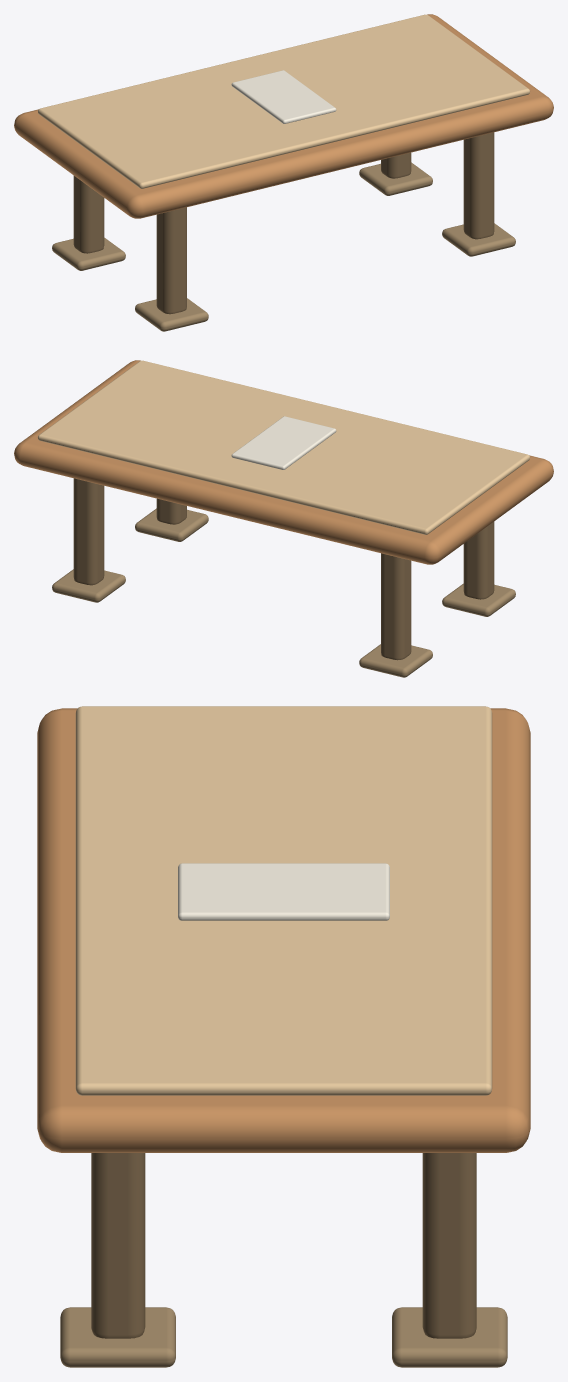
File: meeting-table.glb
3 views of the same model, one above another, from view 1: azimuth 30°, elevation 25°; view 2: azimuth 150°, elevation 25°; view 3: azimuth 270°, elevation 25° (orthographic). The views are drawn at different scales.
Visible parts, largest first — view 1: meeting-table; view 2: meeting-table; view 3: meeting-table.
Part boxes in pixels (x1=…): meeting-table: x1=14, y1=14, x2=553, y2=331; meeting-table: x1=14, y1=360, x2=553, y2=677; meeting-table: x1=37, y1=706, x2=530, y2=1367.
Size of the model in its own units: 2.55 by 0.885 by 1.28.
